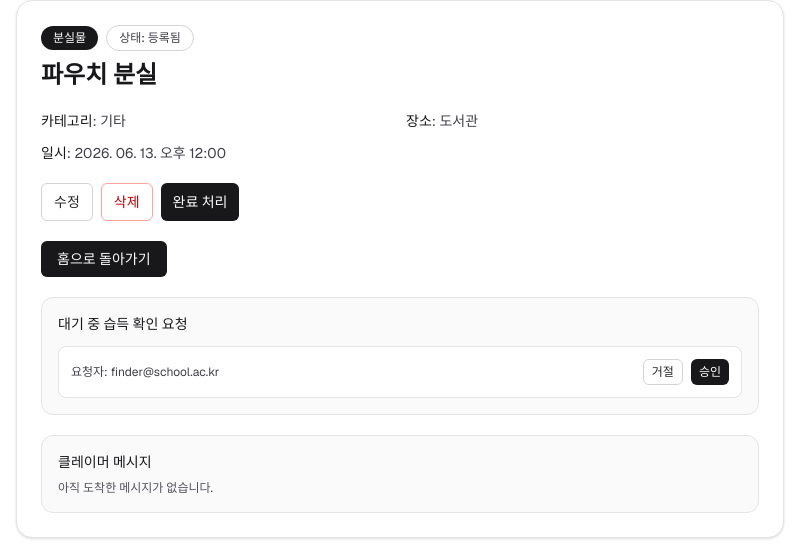
Scenario: PostDetailView › allows author to approve pending finder claim
The width and height of the screenshot is (801, 556).
Expected: the text "대기 중 습득 확인 요청" is shown, [58, 315, 188, 333]
Expected: the text "요청자: finder@school.ac.kr" is shown, [71, 364, 219, 380]
Step 1. Click the button "승인" → (710, 372), box [691, 359, 729, 385]
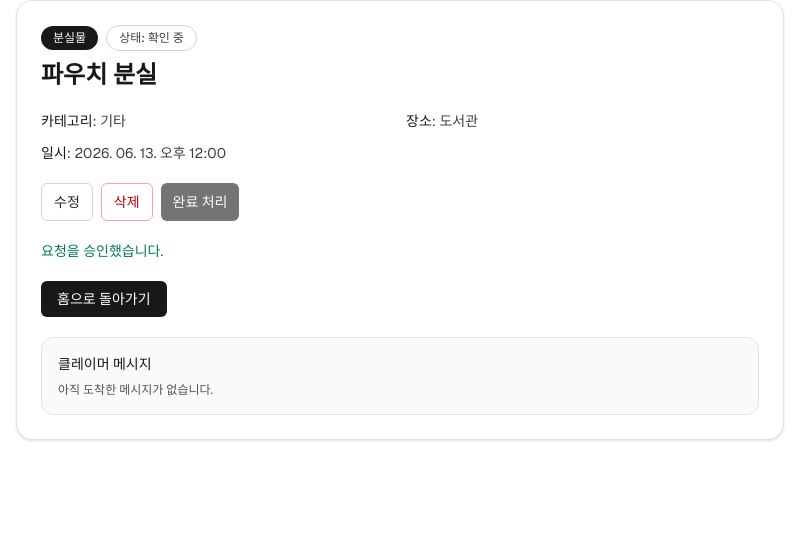
Expected: the text "요청을 승인했습니다." is shown, [41, 242, 163, 260]
